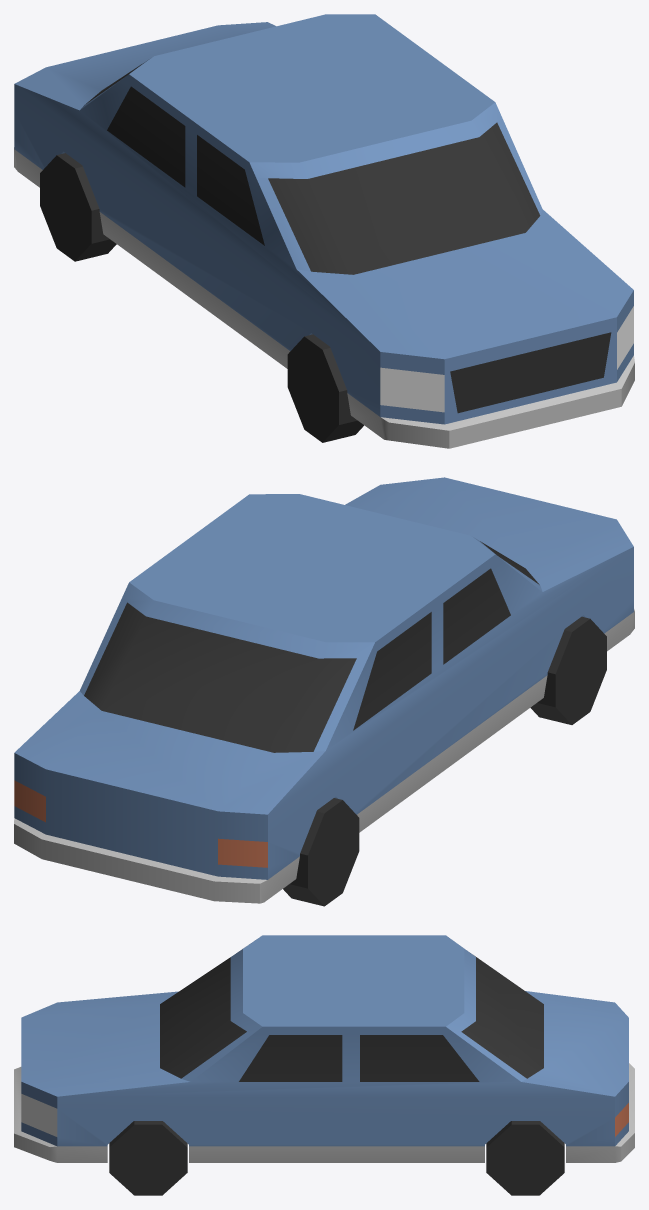
Rendered from sedan.gltf.
The picture shows the model from 3 angles, top to bottom: view 1: azimuth 30°, elevation 25°; view 2: azimuth 150°, elevation 25°; view 3: azimuth 270°, elevation 25°; orthographic projection. The views are drawn at different scales.
Visible parts, largest first — view 1: Body, FrontRightWheel, BackRightWheel; view 2: Body, BackRightWheel, FrontRightWheel; view 3: Body, FrontLeftWheel, BackLeftWheel.
Boxes of the visible parts, <box> form: Body: <box>14,14,634,448</box>; FrontRightWheel: <box>287,334,363,442</box>; BackRightWheel: <box>40,153,116,261</box>; Body: <box>14,477,634,903</box>; BackRightWheel: <box>283,798,359,906</box>; FrontRightWheel: <box>530,616,606,724</box>; Body: <box>14,935,634,1162</box>; FrontLeftWheel: <box>109,1121,187,1195</box>; BackLeftWheel: <box>486,1121,564,1195</box>.
Bounding box in the file's own units: 0.3878 × 0.2995 × 1.02.
4 materials, 4 textured.
